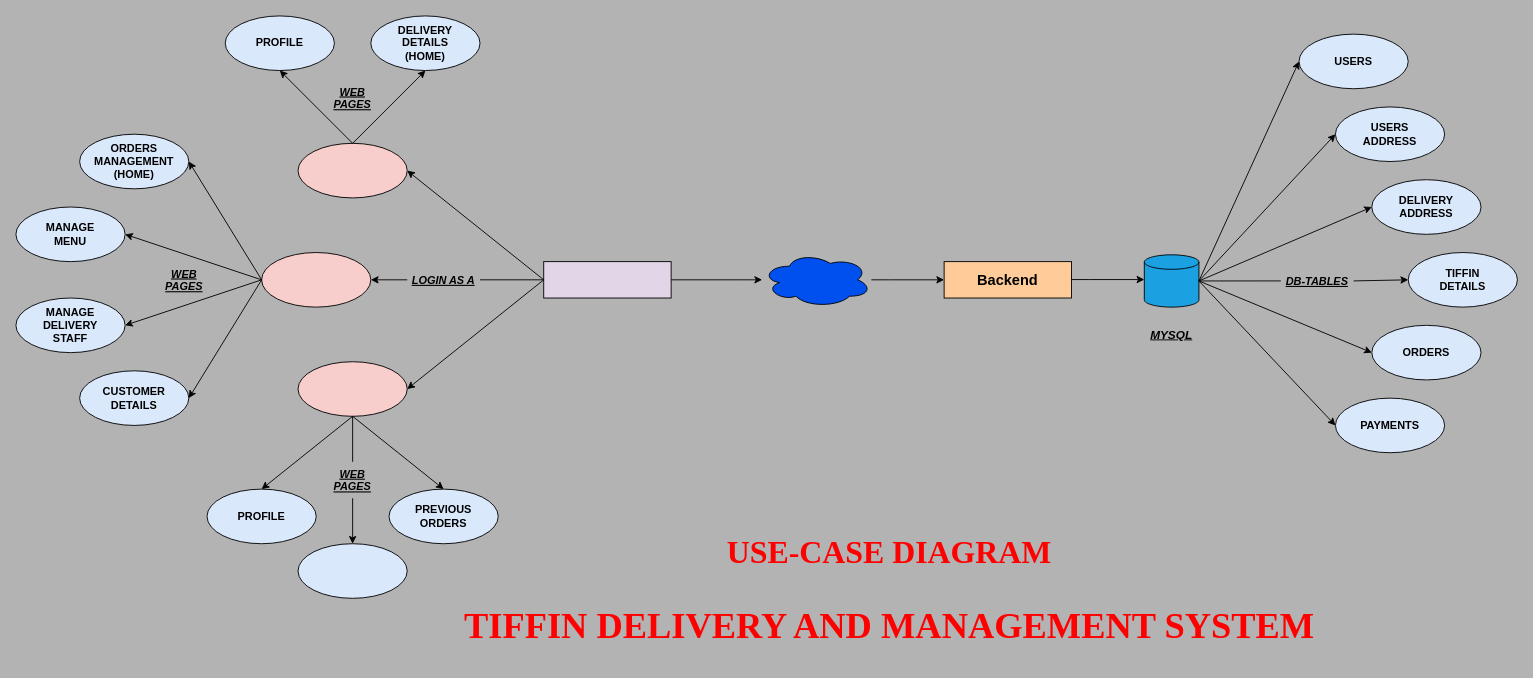
This 1533x678 diagram has some shape labels left out. The shapes that lost their labels are listed below. From the top down, each one's box as (x1, y1, x2, y2) in pixels, then its label:
(297, 142, 407, 198): DELIVERY STAFF
(261, 252, 371, 307): ADMIN
(543, 261, 671, 298): Frontend
(761, 252, 871, 307): Network
(1143, 254, 1199, 307): DB
(297, 361, 407, 416): CUSTOMER
(297, 543, 407, 598): MENU (HOME)
